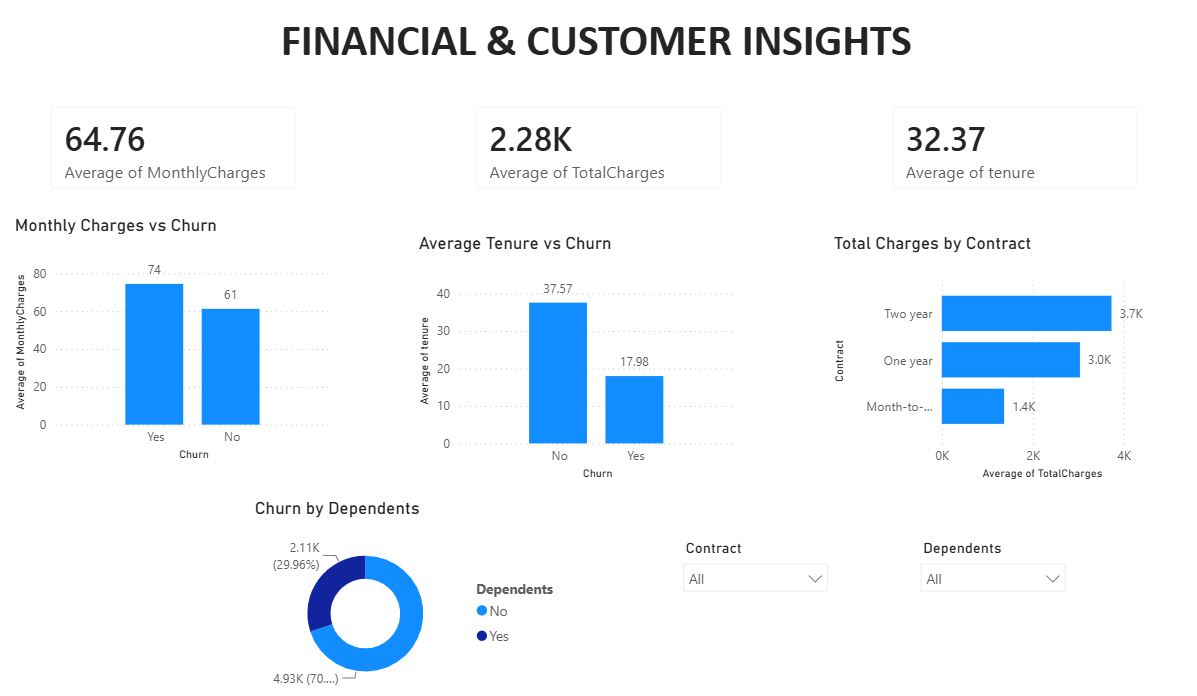

This screenshot's page, from the dashboard's own definition file:
{"tool":"powerbi","page":{"name":"Financial & Customer Insights","canvas":[1280,720],"ordinal":2},"visuals":[{"type":"textbox","box":[30.2,34.3,1221.3,59],"z":0},{"type":"cardVisual","fields":{"Data":["Avg(Telco_Customer_Churn.MonthlyCharges)"]},"box":[86.4,113.9,274.4,115.3],"z":1},{"type":"cardVisual","fields":{"Data":["Avg(Telco_Customer_Churn.TotalCharges)"]},"box":[502.2,113.9,274.4,115.3],"z":2},{"type":"cardVisual","fields":{"Data":["Avg(Telco_Customer_Churn.tenure)"]},"box":[909.8,113.9,274.4,115.3],"z":3},{"type":"clusteredColumnChart","title":"Monthly Charges vs Churn","fields":{"Category":["Telco_Customer_Churn.Churn"],"Y":["Avg(Telco_Customer_Churn.MonthlyCharges)"]},"box":[63.1,236,319.7,245.6],"z":4},{"type":"clusteredColumnChart","title":"Average Tenure vs Churn","fields":{"Category":["Telco_Customer_Churn.Churn"],"Y":["Avg(Telco_Customer_Churn.tenure)"]},"box":[458.3,253.9,319.7,245.6],"z":5},{"type":"clusteredBarChart","title":"Total Charges by Contract","fields":{"Category":["Telco_Customer_Churn.Contract"],"Y":["Avg(Telco_Customer_Churn.TotalCharges)"]},"box":[864.5,253.9,319.7,245.6],"z":6},{"type":"donutChart","title":"Churn by Dependents","fields":{"Category":["Telco_Customer_Churn.Dependents"],"Y":["CountNonNull(Telco_Customer_Churn.customerID)"]},"box":[297.8,513.2,320,196],"z":7},{"type":"slicer","fields":{"Values":["Telco_Customer_Churn.Contract"]},"box":[712.2,548.9,161.9,122.1],"z":8},{"type":"slicer","fields":{"Values":["Telco_Customer_Churn.Dependents"]},"box":[944.1,548.9,161.9,122.1],"z":9}]}

Visuals, with their boxes on the page's 1280x720 design canvas (x1, y1, x2, y2). These are canvas units, not pixel positions in the 1197x696 screenshot, which may show the page scaled, cropped or inside an application window:
textbox: (30,34,1252,93)
cardVisual - Avg(Telco_Customer_Churn.MonthlyCharges): (86,114,361,229)
cardVisual - Avg(Telco_Customer_Churn.TotalCharges): (502,114,777,229)
cardVisual - Avg(Telco_Customer_Churn.tenure): (910,114,1184,229)
"Monthly Charges vs Churn" clusteredColumnChart: (63,236,383,482)
"Average Tenure vs Churn" clusteredColumnChart: (458,254,778,500)
"Total Charges by Contract" clusteredBarChart: (864,254,1184,500)
"Churn by Dependents" donutChart: (298,513,618,709)
slicer - Telco_Customer_Churn.Contract: (712,549,874,671)
slicer - Telco_Customer_Churn.Dependents: (944,549,1106,671)
